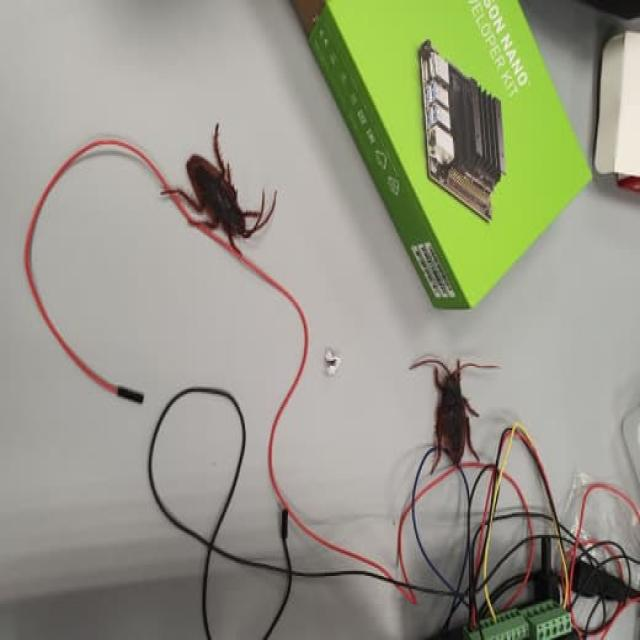Cockroach: (167, 125, 282, 262), (405, 344, 496, 472)
